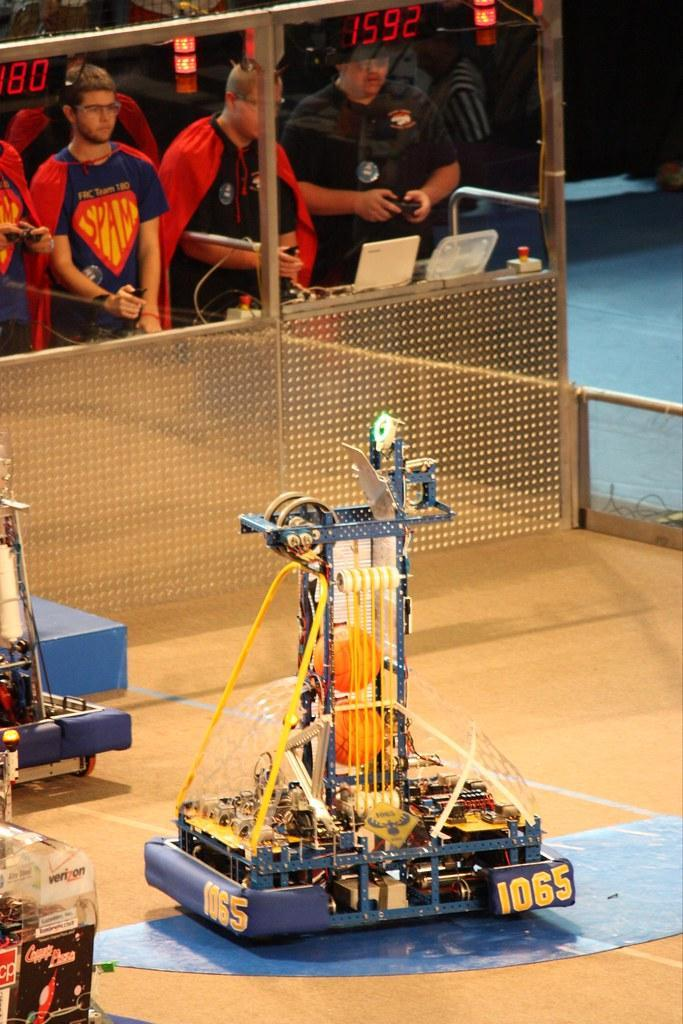robot: (133, 406, 591, 950), (0, 466, 141, 779)
